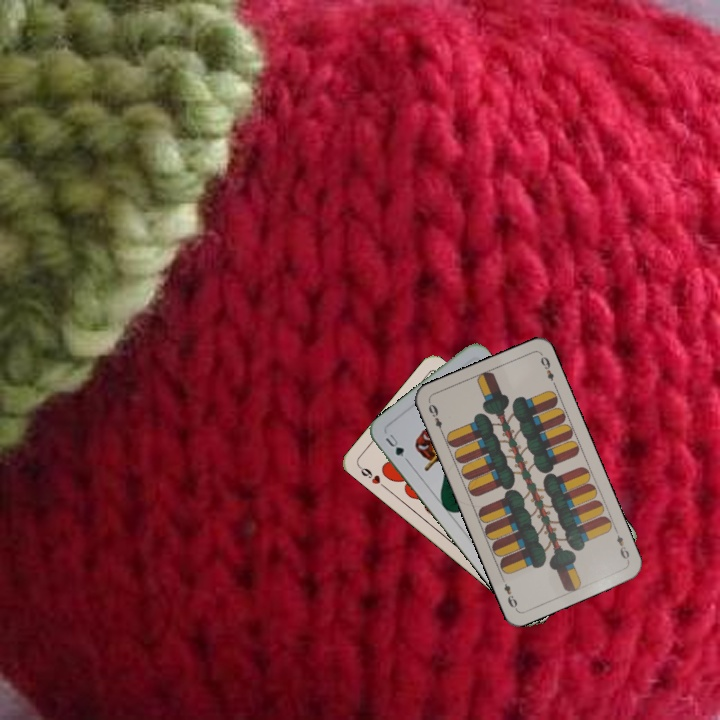E9: (424, 398, 446, 437), (611, 525, 632, 564)
GU: (381, 430, 407, 459)
H9: (355, 462, 389, 491)
